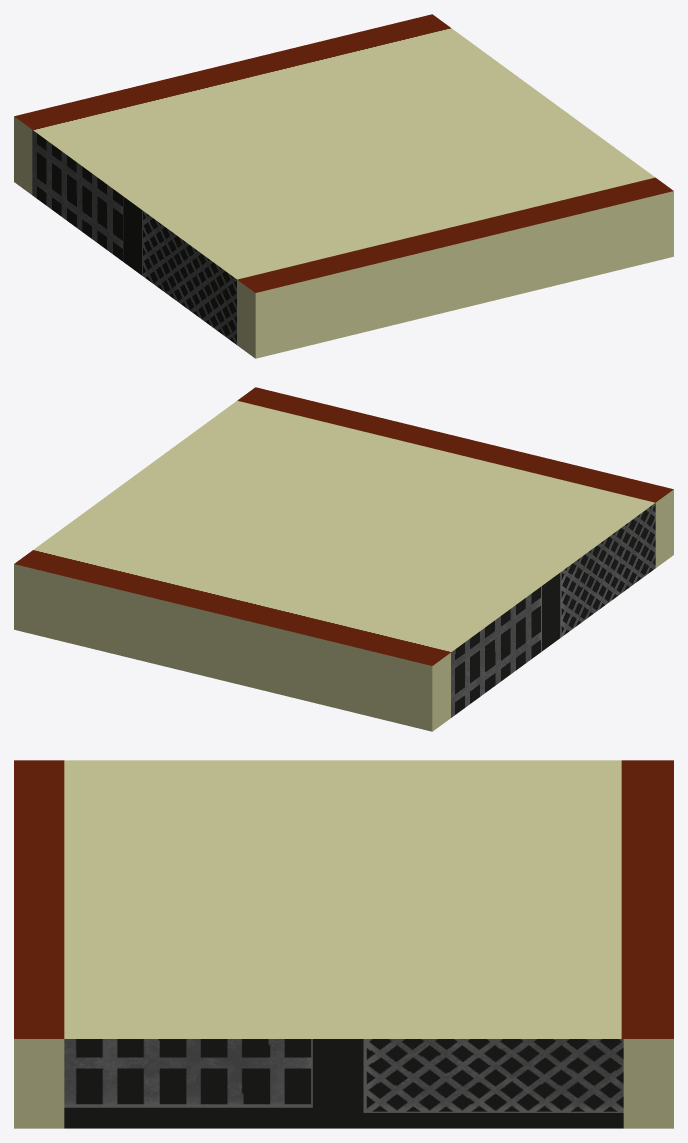
The model's file is Floor_2x2.fbx.
3 views of the same model, one above another, from view 1: azimuth 30°, elevation 25°; view 2: azimuth 150°, elevation 25°; view 3: azimuth 270°, elevation 25° (orthographic). The views are drawn at different scales.
Parts seen in each view (by area): view 1: Floor_2x2; view 2: Floor_2x2; view 3: Floor_2x2.
Part boxes in pixels (x1,y1,x2,y2): Floor_2x2: (14, 14, 673, 358); Floor_2x2: (14, 387, 673, 731); Floor_2x2: (14, 760, 673, 1128).
Bounding box in the file's own units: 200 × 30 × 200.
